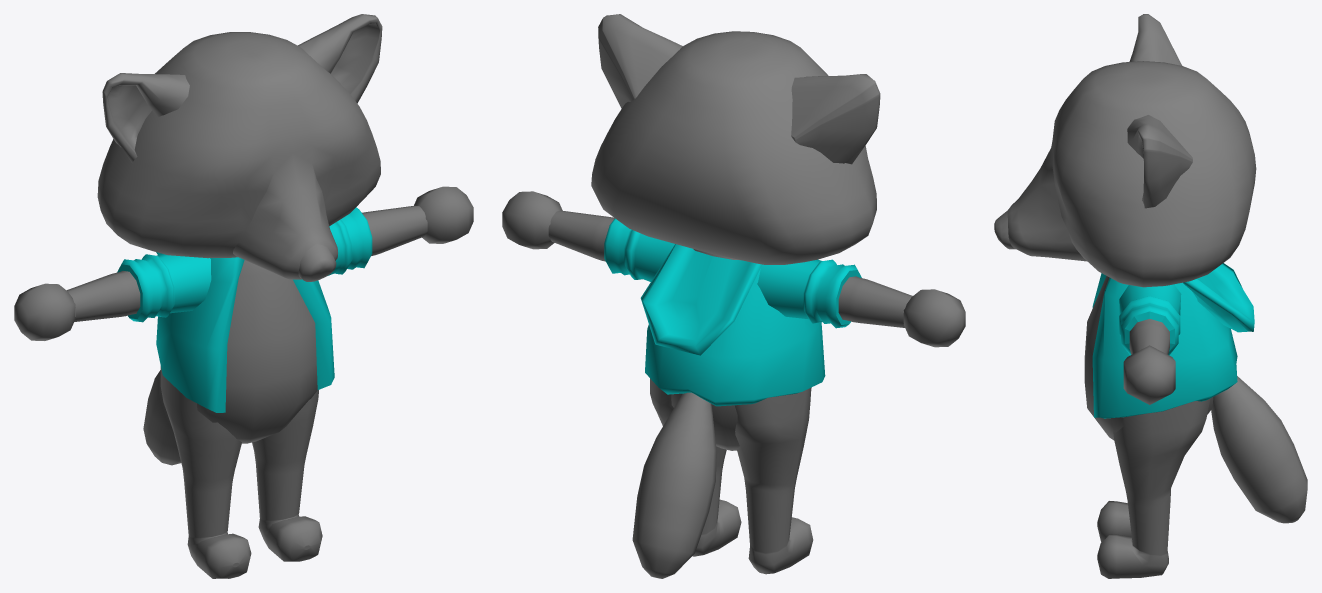
The model's file is Raccoon_UVed.fbx.
3 renders of one model, left to right at view 1: azimuth 30°, elevation 25°; view 2: azimuth 150°, elevation 25°; view 3: azimuth 270°, elevation 25°, orthographic. The views are drawn at different scales.
Visible parts, largest first — view 1: Head_geo7, body_geo, Jacket, r_leg_geo, l_leg_geo, R_Ear_geo, R_jacket_Arm, L_Ear_geo, r_hand_geo, r_arm_geo, l_hand_geo, l_arm_geo (+2 smaller); view 2: Head_geo7, Jacket, Tail_geo, r_leg_geo, Hood, R_Ear_geo, R_jacket_Arm, L_Ear_geo, r_hand_geo, r_arm_geo, L_Jacket_Arm, l_leg_geo (+3 smaller); view 3: Head_geo7, l_leg_geo, Jacket, Tail_geo, L_Ear_geo, L_Jacket_Arm, Hood, l_hand_geo, body_geo, R_Ear_geo, l_arm_geo, r_leg_geo.
Part boxes in pixels (<box>): Head_geo7: <box>97,32,380,281</box>; body_geo: <box>197,260,317,443</box>; Jacket: <box>156,257,334,412</box>; r_leg_geo: <box>160,366,251,578</box>; l_leg_geo: <box>252,390,322,561</box>; R_Ear_geo: <box>102,73,189,163</box>; R_jacket_Arm: <box>117,253,211,322</box>; L_Ear_geo: <box>298,14,382,103</box>; r_hand_geo: <box>14,283,75,340</box>; r_arm_geo: <box>67,271,140,321</box>; l_hand_geo: <box>414,186,473,243</box>; l_arm_geo: <box>362,205,427,255</box>; Head_geo7: <box>591,31,876,264</box>; Jacket: <box>645,268,825,406</box>; Tail_geo: <box>632,392,716,578</box>; r_leg_geo: <box>735,388,813,574</box>; Hood: <box>640,244,761,355</box>; R_Ear_geo: <box>791,74,880,164</box>; R_jacket_Arm: <box>757,259,861,328</box>; L_Ear_geo: <box>598,14,682,108</box>; r_hand_geo: <box>903,289,965,347</box>; r_arm_geo: <box>838,276,912,327</box>; L_Jacket_Arm: <box>604,218,674,281</box>; l_leg_geo: <box>650,378,741,556</box>; Head_geo7: <box>994,61,1256,287</box>; l_leg_geo: <box>1097,399,1210,578</box>; Jacket: <box>1092,273,1237,418</box>; Tail_geo: <box>1211,376,1307,523</box>; L_Ear_geo: <box>1127,115,1192,208</box>; L_Jacket_Arm: <box>1119,284,1181,355</box>; Hood: <box>1183,263,1254,332</box>; l_hand_geo: <box>1123,345,1175,404</box>; body_geo: <box>1084,276,1213,440</box>; R_Ear_geo: <box>1129,14,1182,65</box>; l_arm_geo: <box>1129,319,1169,354</box>; r_leg_geo: <box>1097,501,1168,541</box>.
Bounding box in the file's own units: 7.05 × 7.59 × 4.46.
